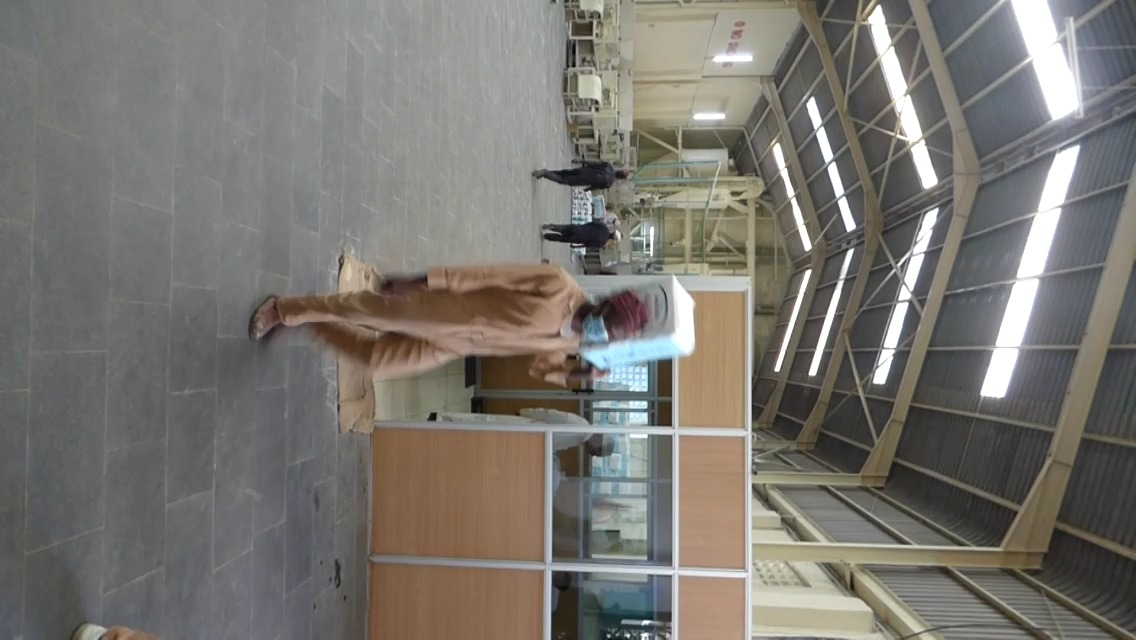wheat_flour_blue_label: (577, 274, 691, 359)
